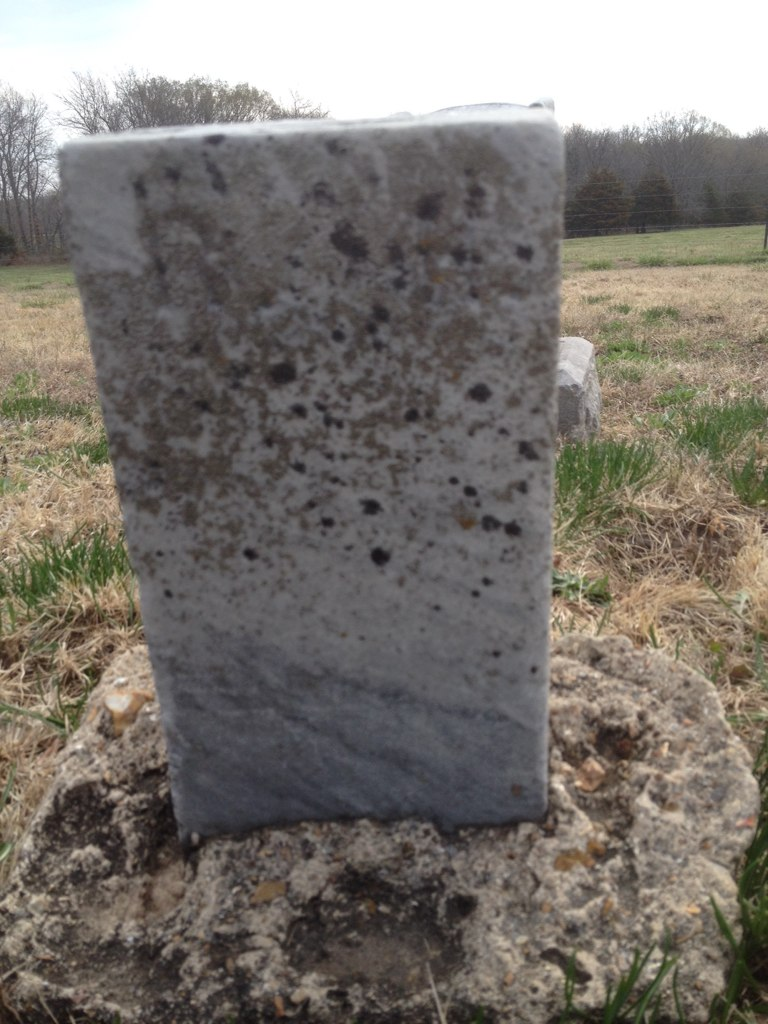upright: (58, 112, 564, 834)
